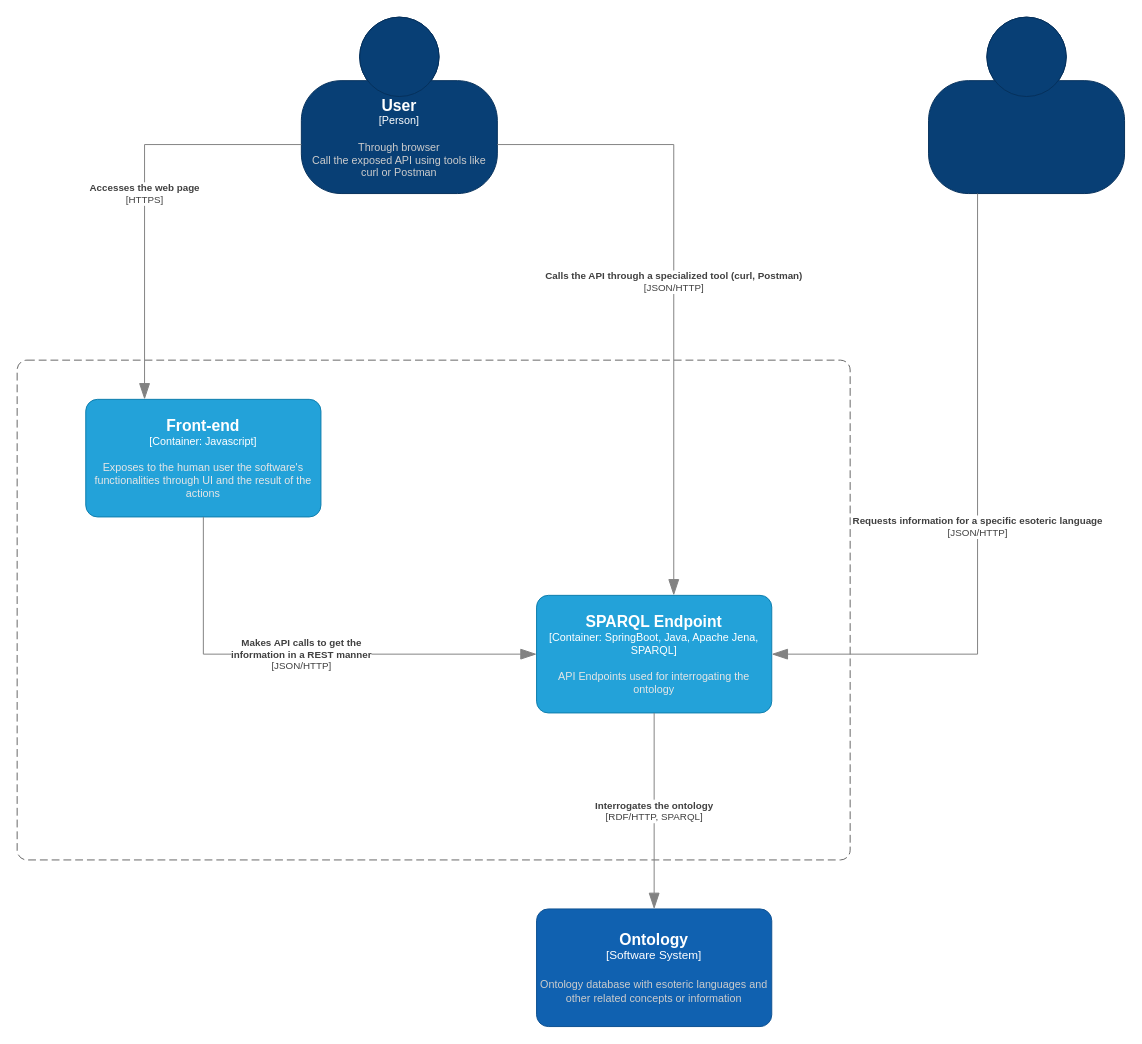
The diagram is 1142 pixels wide and 1044 high, and some of its shapes have lost their labels. The shapes that lost their labels are listed below. From the top down, each one's box as (x1, y1, x2, y2) in pixels, then its label:
(928, 16, 1125, 194): Robot [Robot] Third-party application that accesses the app
(16, 359, 850, 860): ELA [Software System]
